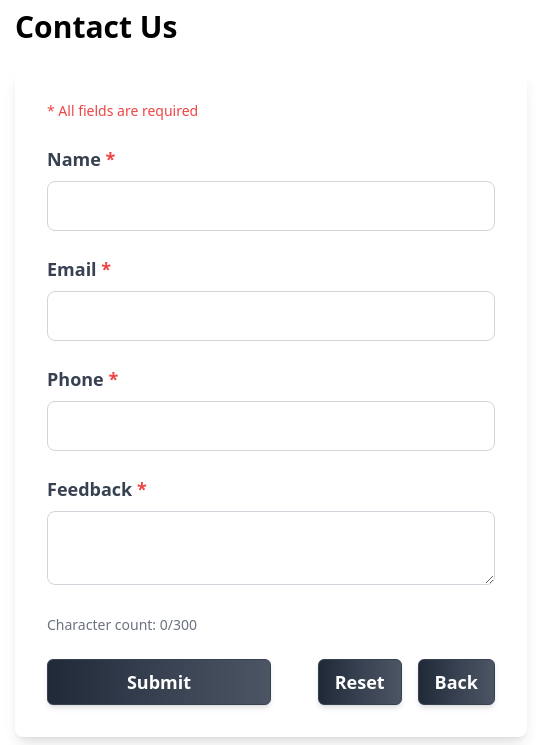
Scenario: Contact › validates the name
Type "Shahid123" into the field labelled "Name *" at (271, 206), box [47,181,495,231]
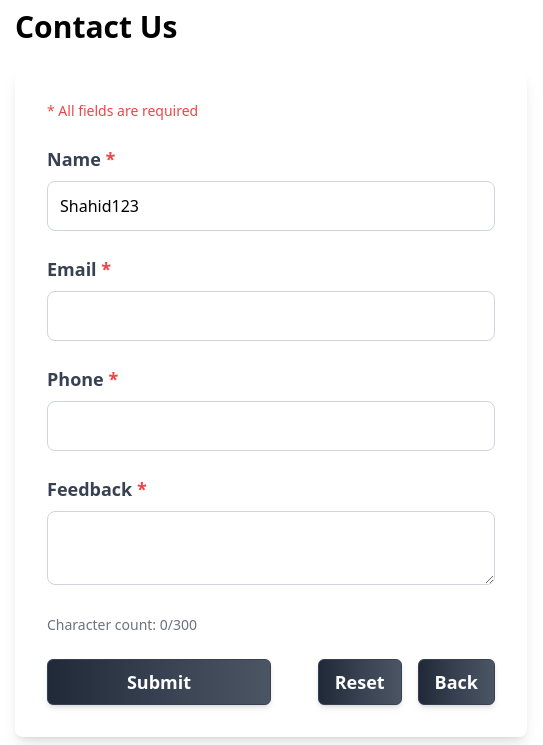
Click the button "Submit" at (159, 682), box [47,659,271,705]
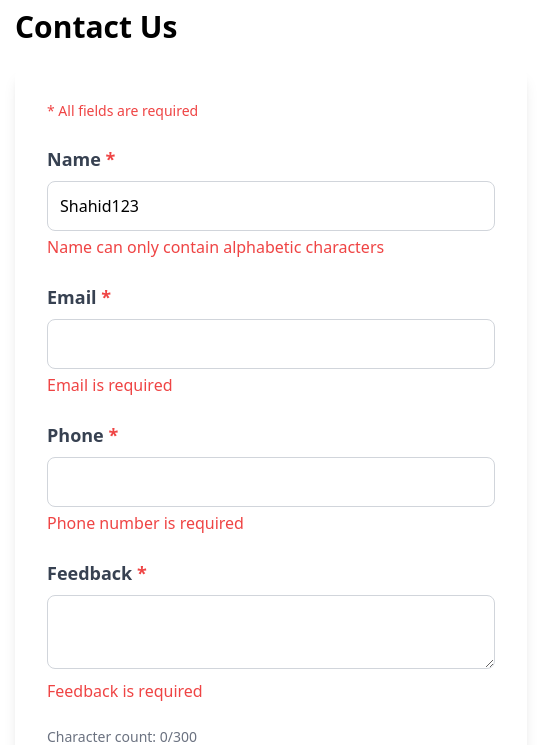
Result: the text "Name can only contain alphabetic characters" is shown at [47,236,384,258]
